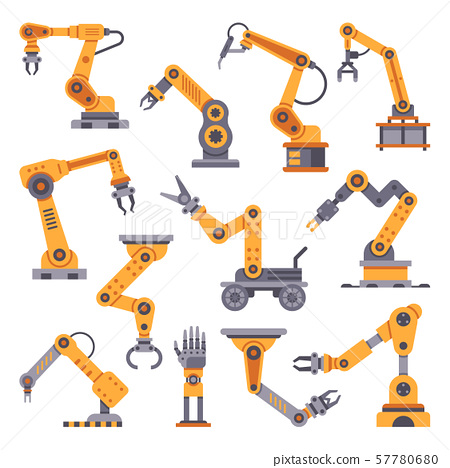robot: (216, 21, 334, 172), (294, 304, 429, 427), (19, 148, 136, 281), (307, 169, 420, 290), (159, 175, 274, 283), (337, 22, 433, 151), (18, 22, 132, 130), (219, 327, 340, 427), (95, 235, 175, 369), (141, 64, 240, 168), (19, 330, 129, 423)
